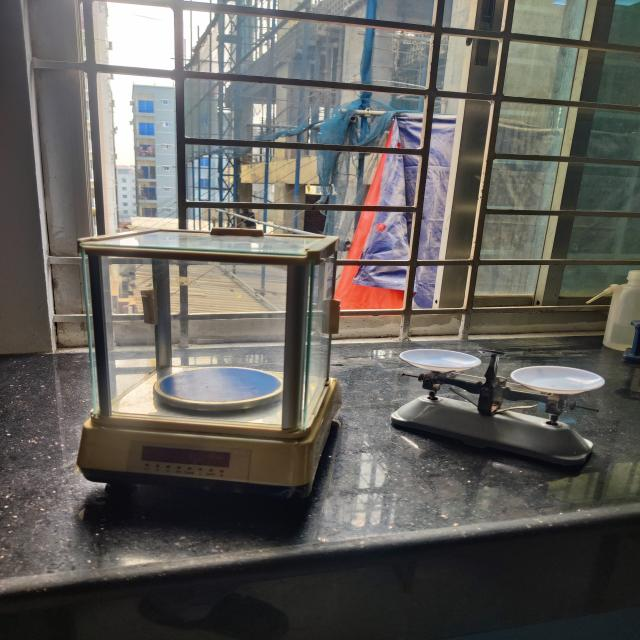Mechanical_Balance_Scale: (369, 318, 640, 498)
Precision_Weight_Scale: (43, 198, 371, 534)
